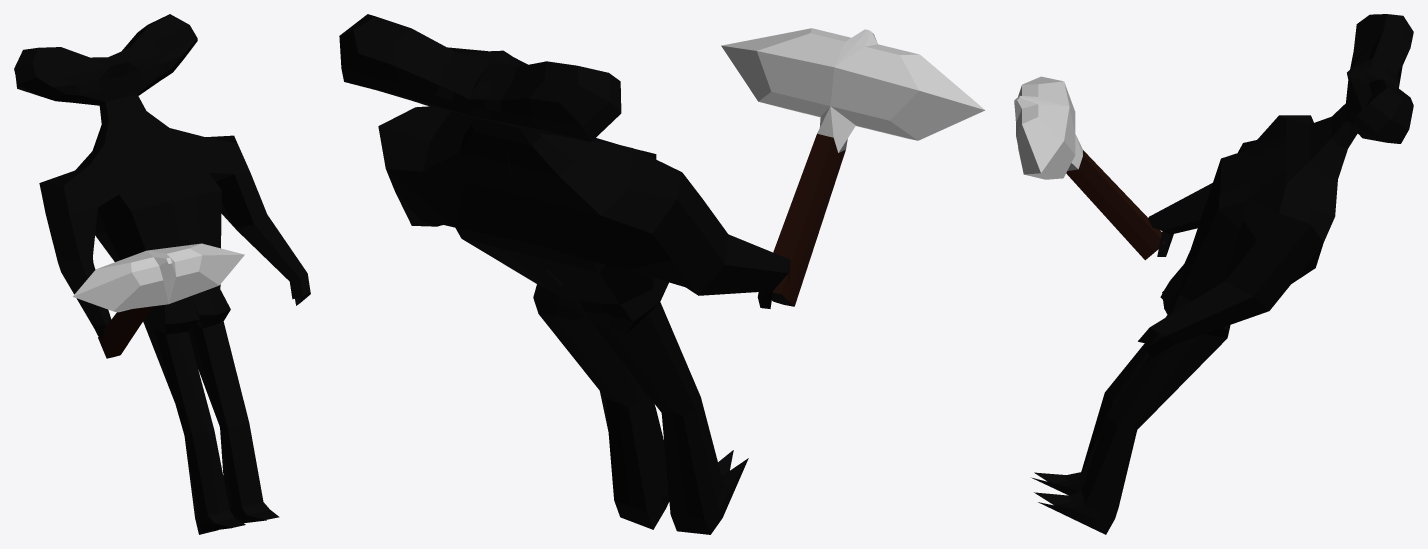
The model's file is Giant1d.obj.
3 renders of one model, left to right at view 1: azimuth 30°, elevation 25°; view 2: azimuth 150°, elevation 25°; view 3: azimuth 270°, elevation 25°, orthographic. The views are drawn at different scales.
Parts seen in each view (by area): view 1: Cube; view 2: Cube; view 3: Cube.
Boxes of the visible parts, x1=… form: Cube: x1=14, y1=14, x2=310, y2=534; Cube: x1=339, y1=14, x2=985, y2=534; Cube: x1=1014, y1=14, x2=1413, y2=534.
Size of the model in its own units: 1.06 by 1.44 by 1.11.
